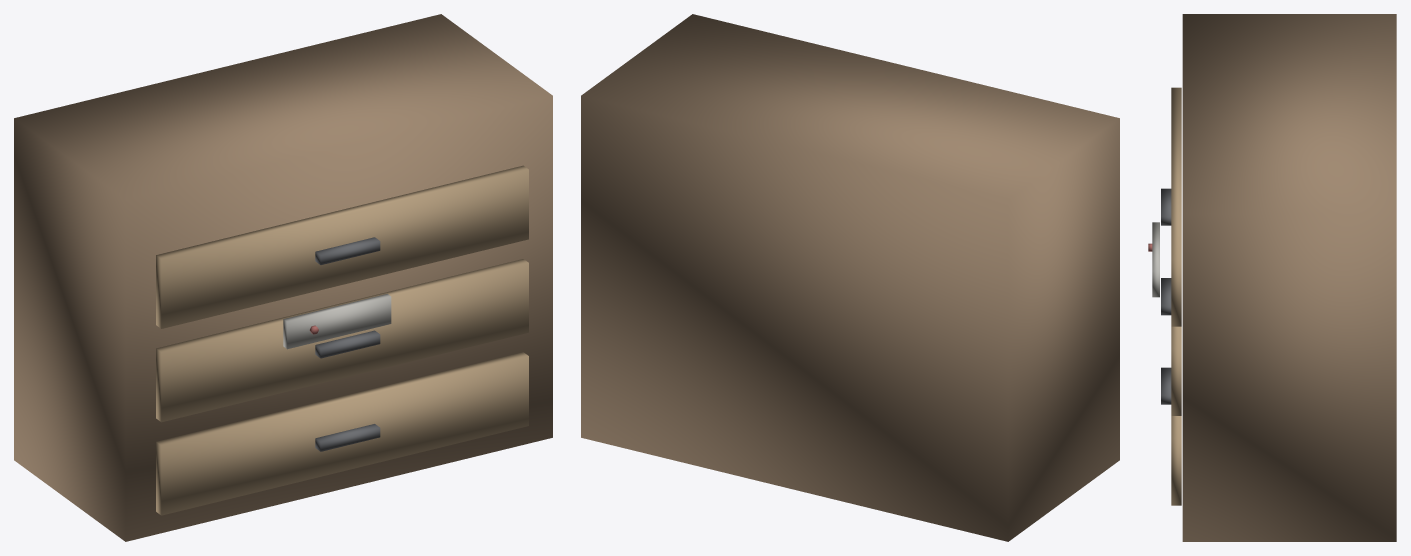
The model's file is motel_dresser.glb.
3 renders of one model, left to right at view 1: azimuth 30°, elevation 25°; view 2: azimuth 150°, elevation 25°; view 3: azimuth 270°, elevation 25°, orthographic. The views are drawn at different scales.
Parts seen in each view (by area): view 1: world; view 2: world; view 3: world.
Boxes of the visible parts, x1,y1,x2,y2 form: world: [14, 14, 552, 541]; world: [581, 14, 1119, 541]; world: [1148, 14, 1396, 541].
Bounding box in the file's own units: 1.15 × 0.88 × 0.6035.
